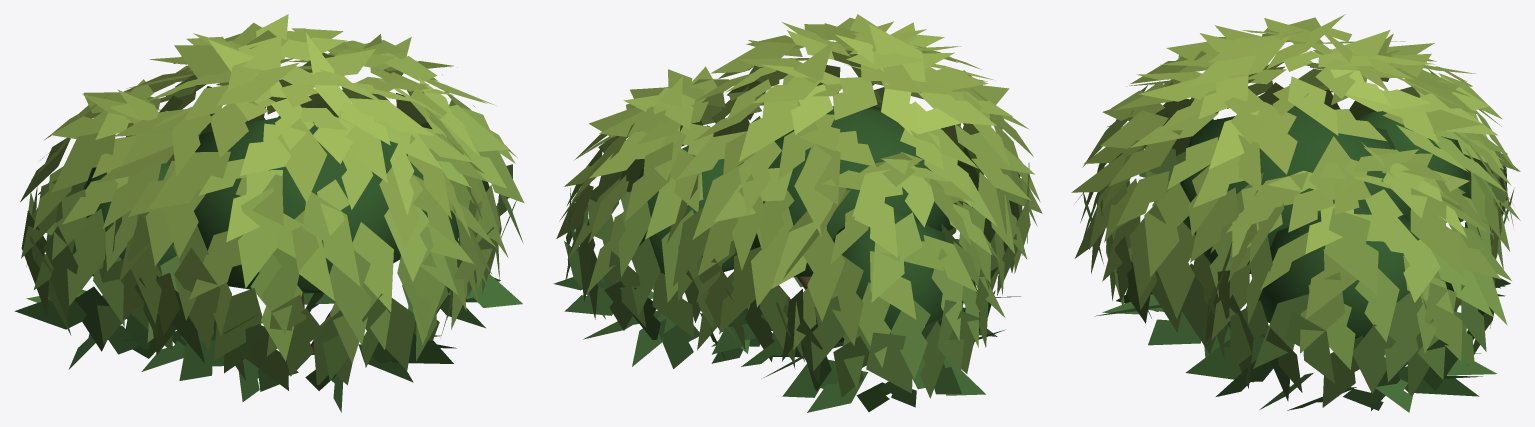
File: dome_bush_2.glb
3 renders of one model, left to right at view 1: azimuth 30°, elevation 25°; view 2: azimuth 150°, elevation 25°; view 3: azimuth 270°, elevation 25°, orthographic. The views are drawn at different scales.
Parts seen in each view (by area): view 1: dome_bush_2; view 2: dome_bush_2; view 3: dome_bush_2.
Boxes of the visible parts, <box> form: dome_bush_2: <box>14,14,524,412</box>; dome_bush_2: <box>553,14,1042,412</box>; dome_bush_2: <box>1071,14,1520,412</box>.
Bounding box in the file's own units: 2.2 × 1.5 × 2.
2 materials, 2 textured.
